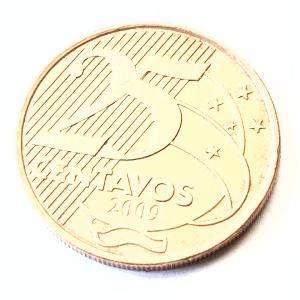25 cent: (16, 21, 281, 271)
